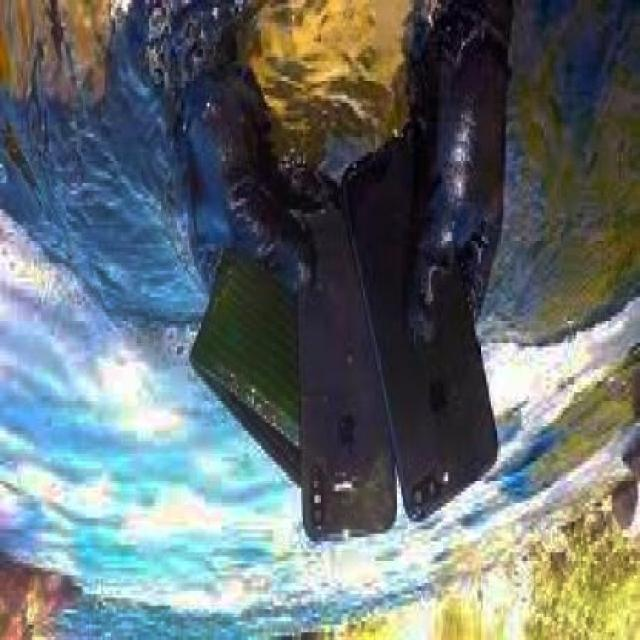cellphone: (352, 137, 503, 521), (296, 217, 395, 541)
